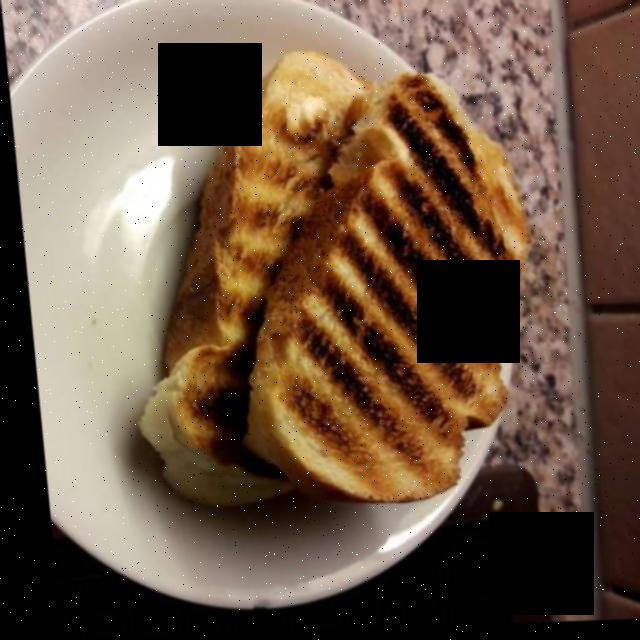bread-white: (150, 62, 522, 495)
